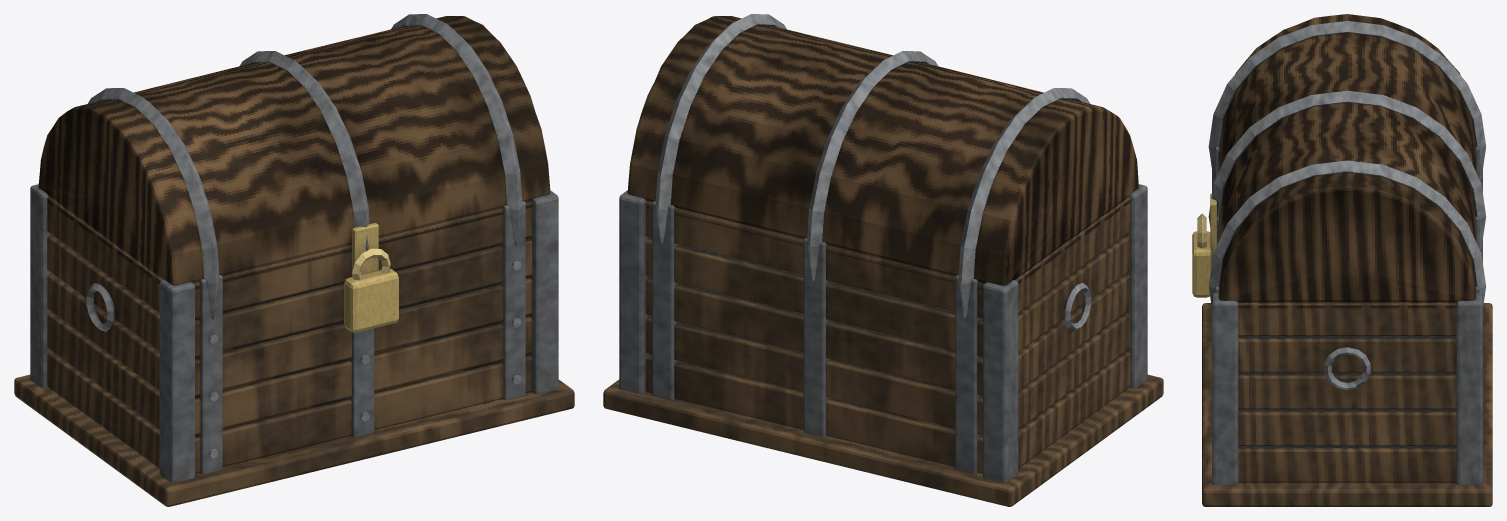
The model's file is poi_vault_chest.glb.
3 renders of one model, left to right at view 1: azimuth 30°, elevation 25°; view 2: azimuth 150°, elevation 25°; view 3: azimuth 270°, elevation 25°, orthographic. The views are drawn at different scales.
Visible parts, largest first — view 1: poi_vault_chest; view 2: poi_vault_chest; view 3: poi_vault_chest.
Boxes of the visible parts, x1,y1,x2,y2 form: poi_vault_chest: (14,14,574,506); poi_vault_chest: (603,14,1163,506); poi_vault_chest: (1192,14,1492,506).
Bounding box in the file's own units: 1.35 × 1.08 × 0.91.
3 materials, 3 textured.
